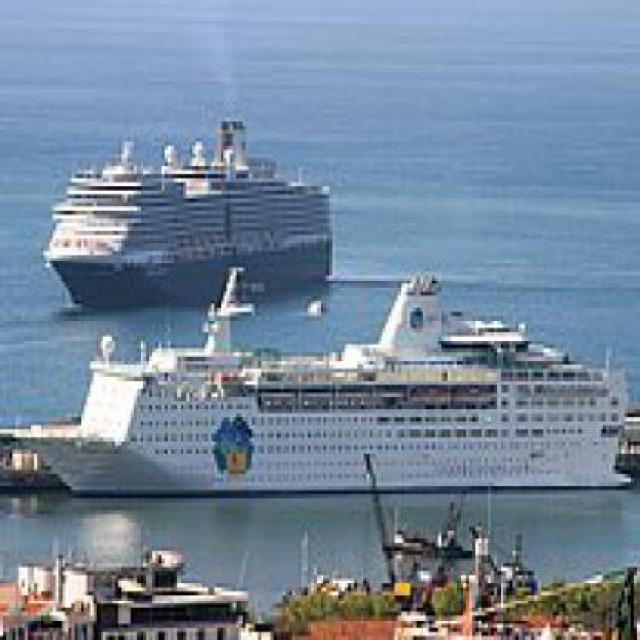cruise: (10, 264, 638, 512), (32, 103, 346, 321)
